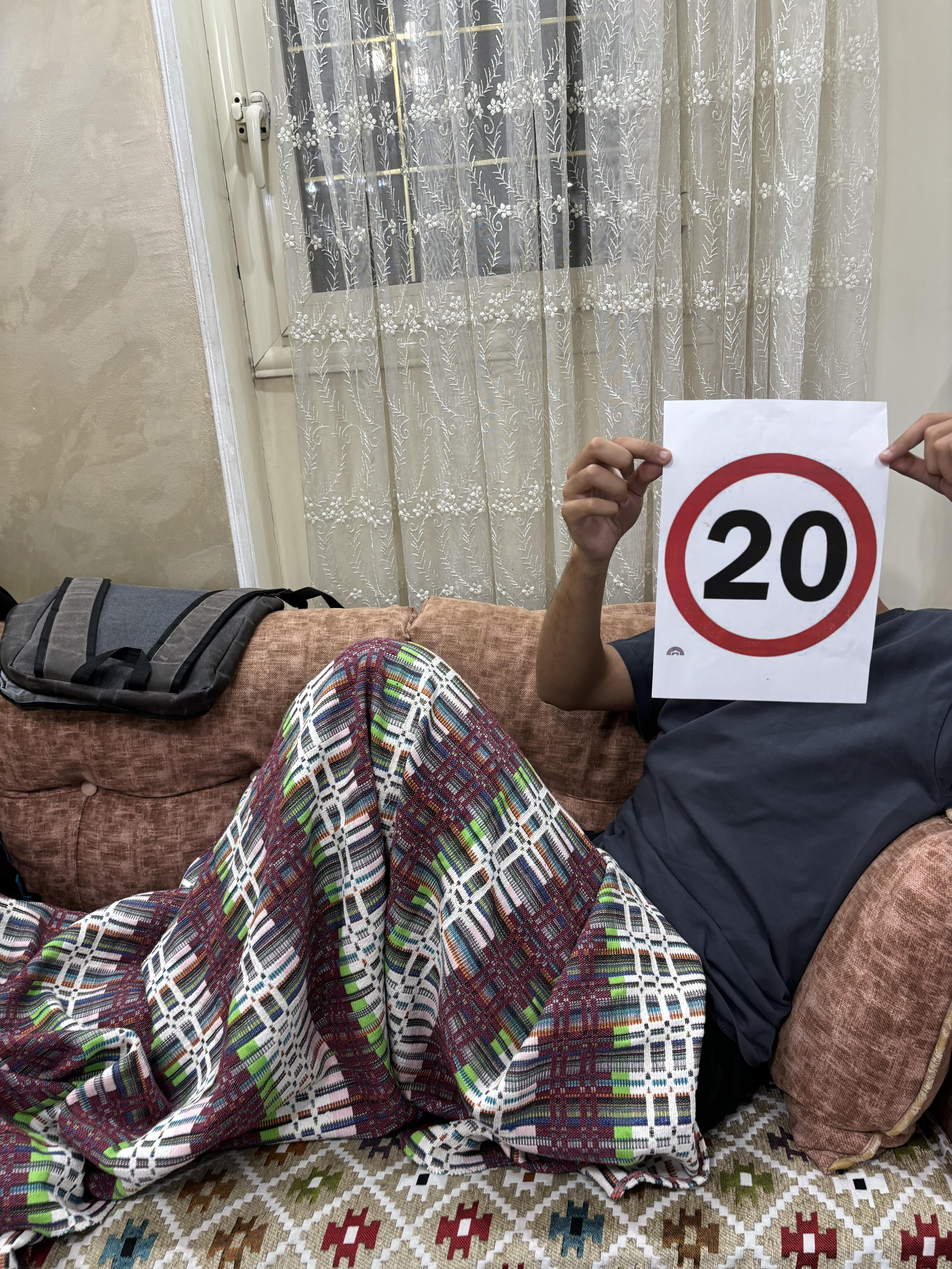20-Speed: (667, 451, 877, 652)
